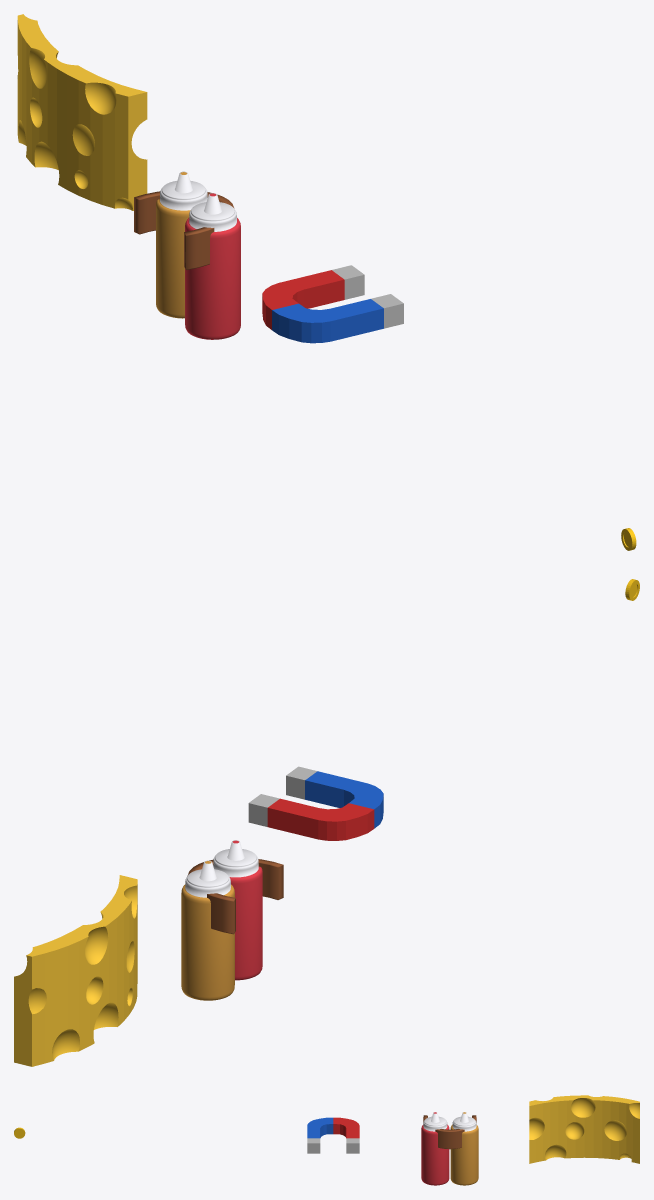
The model's file is asset.glb.
The picture shows the model from 3 angles, top to bottom: view 1: azimuth 30°, elevation 25°; view 2: azimuth 150°, elevation 25°; view 3: azimuth 270°, elevation 25°; orthographic projection. The views are drawn at different scales.
Visible parts, largest first — view 1: Cube, Cylinder.003, Cube.001, Cylinder.001; view 2: Cube, Cylinder.003, Cube.001, Cylinder.001; view 3: Cube, Cylinder.003, Cube.001, Cylinder.001.
Part boxes in pixels (box(x1,y1,x2,y2)): Cube: box(17, 14, 147, 210); Cylinder.003: box(156, 171, 240, 339); Cube.001: box(262, 265, 403, 343); Cylinder.001: box(134, 191, 234, 270); Cube: box(14, 875, 137, 1066); Cylinder.003: box(181, 840, 262, 1000); Cube.001: box(248, 766, 383, 840); Cylinder.001: box(187, 859, 283, 934); Cube: box(529, 1095, 639, 1163); Cylinder.003: box(421, 1112, 478, 1185); Cube.001: box(307, 1117, 359, 1153); Cylinder.001: box(423, 1115, 476, 1149).
Size of the model in its own units: 10.85 by 15.86 by 111.
